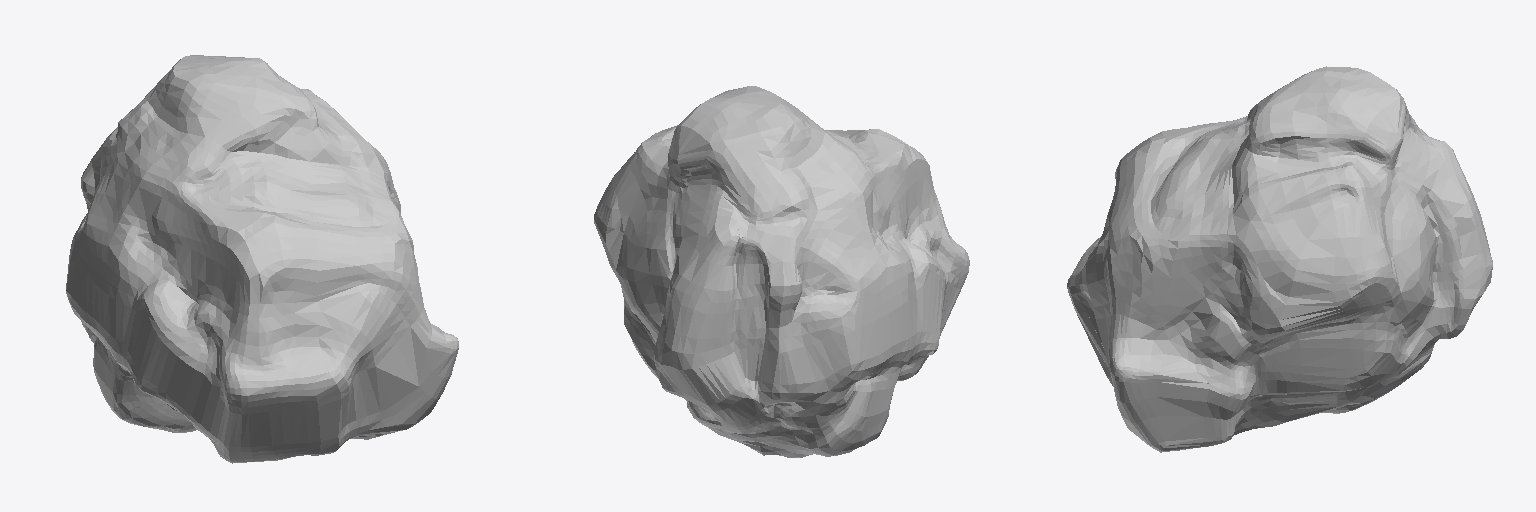
Rendered from asteroid.obj.
3 views of the same model, side by side, from view 1: azimuth 30°, elevation 25°; view 2: azimuth 150°, elevation 25°; view 3: azimuth 270°, elevation 25° (orthographic).
Visible parts, largest first — view 1: node_id5; view 2: node_id5; view 3: node_id5.
Boxes of the visible parts, x1,y1,x2,y2 form: node_id5: [66, 55, 458, 463]; node_id5: [594, 86, 969, 457]; node_id5: [1067, 66, 1492, 452].
Bounding box in the file's own units: 0.4481 × 0.512 × 0.5773.